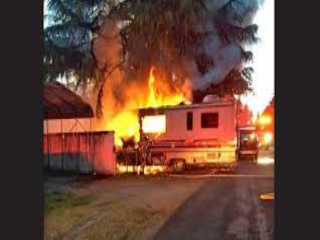fire: (88, 70, 198, 161)
